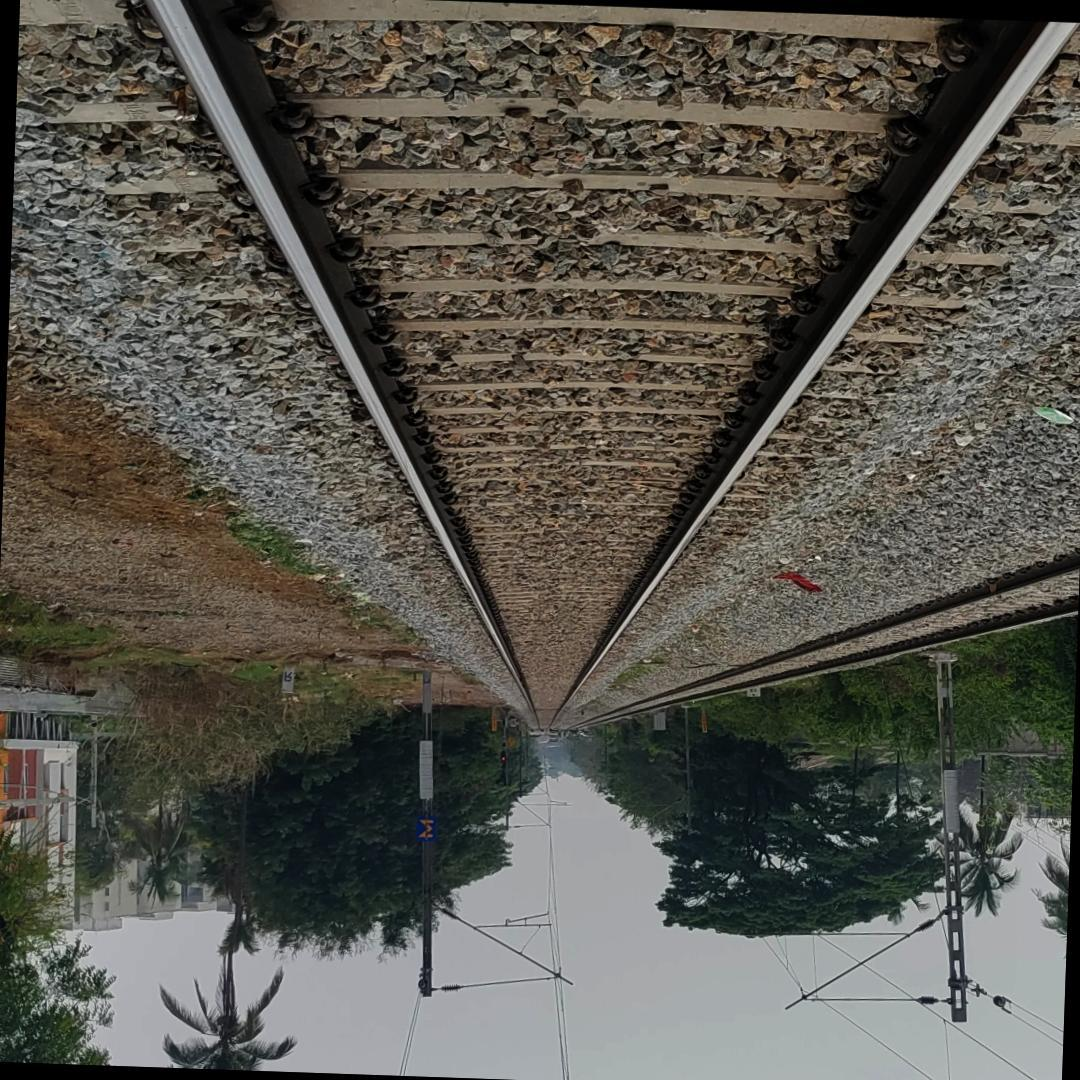track: (15, 0, 1080, 736)
